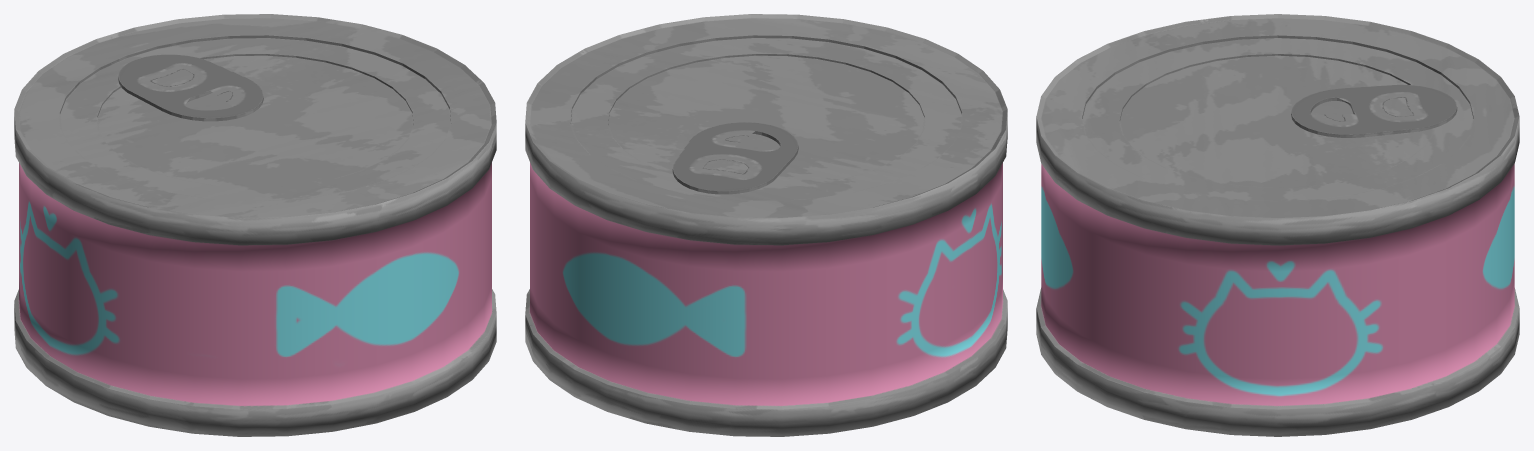
File: fluffulis tuna can.fbx
3 views of the same model, side by side, from view 1: azimuth 30°, elevation 25°; view 2: azimuth 150°, elevation 25°; view 3: azimuth 270°, elevation 25° (orthographic).
Parts seen in each view (by area): view 1: tuna can; view 2: tuna can; view 3: tuna can.
Boxes of the visible parts, bbox=[...] form: tuna can: bbox=[14, 14, 496, 436]; tuna can: bbox=[525, 14, 1007, 436]; tuna can: bbox=[1036, 14, 1519, 436].
Bounding box in the file's own units: 50 × 25 × 50.
